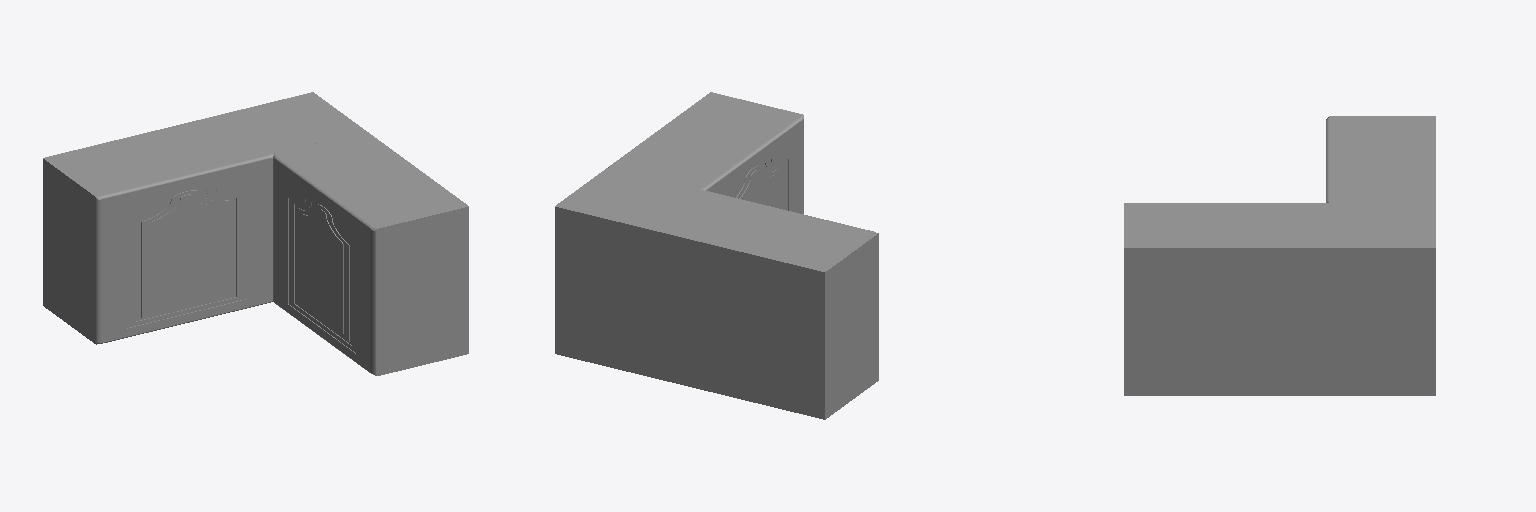
File: corner-base-unit-1100.obj
The picture shows the model from 3 angles: view 1: azimuth 30°, elevation 25°; view 2: azimuth 150°, elevation 25°; view 3: azimuth 270°, elevation 25°; orthographic projection.
Parts seen in each view (by area): view 1: Cube.003_Cube.008, Cube.004_Cube.000, Cube.005, Cube.001, Cube_Cube.002, Cube.002_Cube.004, Cube.006; view 2: Cube_Cube.002, Cube.006, Cube.001, Cube.002_Cube.004, Cube.004_Cube.000; view 3: Cube.001, Cube.006, Cube_Cube.002, Cube.005.
Boxes of the visible parts, x1=… form: Cube.003_Cube.008: x1=96, y1=154, x2=273, y2=344; Cube.004_Cube.000: x1=273, y1=154, x2=376, y2=375; Cube.005: x1=376, y1=206, x2=468, y2=375; Cube.001: x1=275, y1=131, x2=467, y2=227; Cube_Cube.002: x1=45, y1=115, x2=273, y2=195; Cube.002_Cube.004: x1=43, y1=158, x2=97, y2=343; Cube.006: x1=221, y1=92, x2=365, y2=153; Cube_Cube.002: x1=647, y1=190, x2=874, y2=418; Cube.006: x1=555, y1=168, x2=698, y2=375; Cube.001: x1=608, y1=93, x2=801, y2=189; Cube.002_Cube.004: x1=823, y1=233, x2=878, y2=419; Cube.004_Cube.000: x1=701, y1=115, x2=803, y2=213; Cube.001: x1=1127, y1=203, x2=1329, y2=395; Cube.006: x1=1330, y1=203, x2=1435, y2=395; Cube_Cube.002: x1=1330, y1=117, x2=1435, y2=202; Cube.005: x1=1124, y1=203, x2=1126, y2=395.
Bounding box in the file's own units: 334 × 174 × 334.